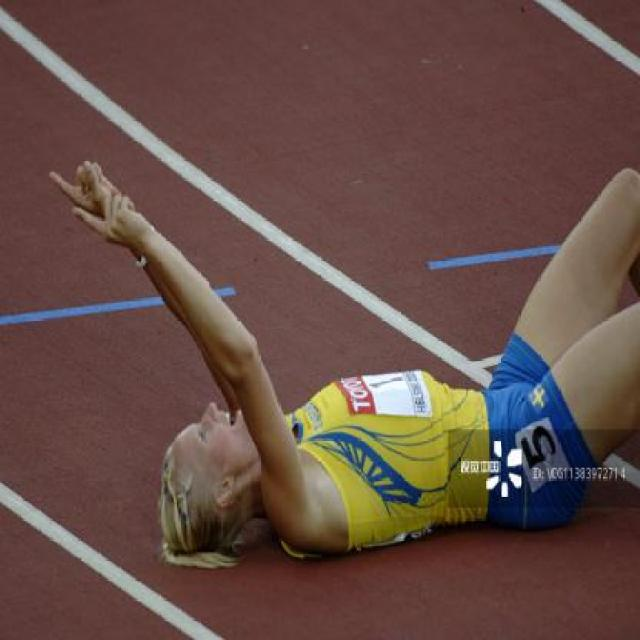fall: (33, 115, 639, 580)
